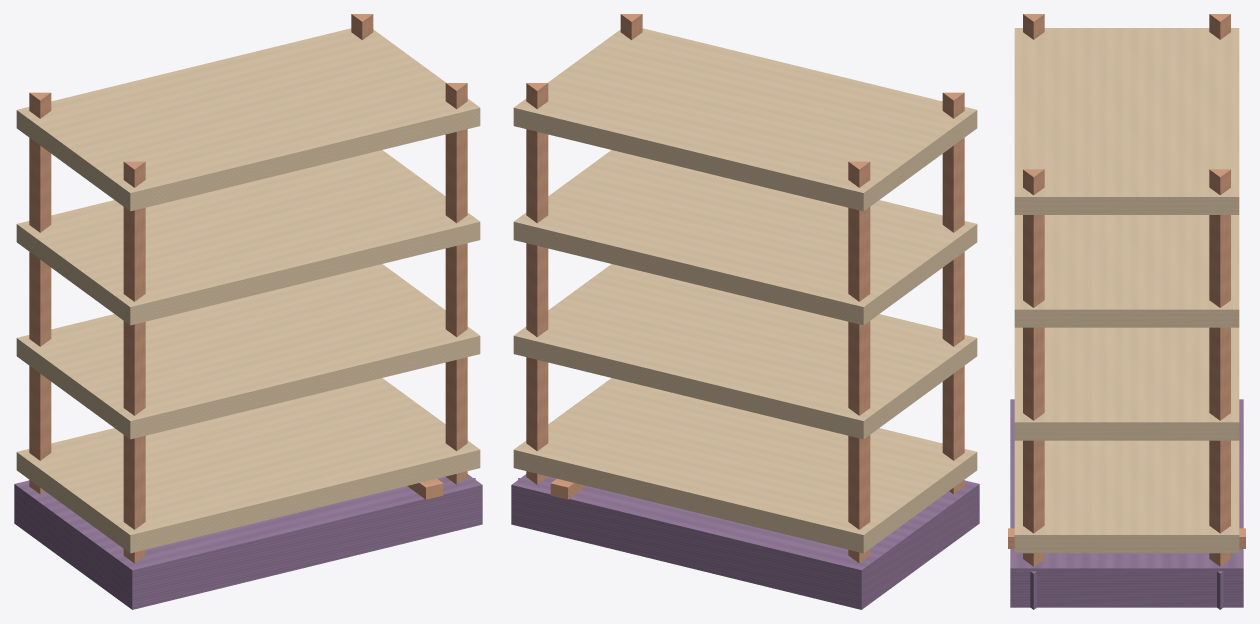
The model's file is atlas100-s082-a06.lod2.glb.
The picture shows the model from 3 angles, left to right: view 1: azimuth 30°, elevation 25°; view 2: azimuth 150°, elevation 25°; view 3: azimuth 270°, elevation 25°; orthographic projection.
Parts seen in each view (by area): view 1: atlas100-s082-a06:part-014, atlas100-s082-a06:part-011, atlas100-s082-a06:part-013, atlas100-s082-a06:part-012, atlas100-s082-a06:part-000, atlas100-s082-a06:part-005, atlas100-s082-a06:part-009, atlas100-s082-a06:part-003; view 2: atlas100-s082-a06:part-014, atlas100-s082-a06:part-011, atlas100-s082-a06:part-013, atlas100-s082-a06:part-012, atlas100-s082-a06:part-000, atlas100-s082-a06:part-003, atlas100-s082-a06:part-007, atlas100-s082-a06:part-005; view 3: atlas100-s082-a06:part-014, atlas100-s082-a06:part-011, atlas100-s082-a06:part-012, atlas100-s082-a06:part-013, atlas100-s082-a06:part-000, atlas100-s082-a06:part-007, atlas100-s082-a06:part-009, atlas100-s082-a06:part-003, atlas100-s082-a06:part-005.
Part boxes in pixels (x1,y1,x2,y2): atlas100-s082-a06:part-014: (16, 28, 480, 211); atlas100-s082-a06:part-011: (16, 378, 480, 553); atlas100-s082-a06:part-013: (16, 150, 480, 325); atlas100-s082-a06:part-012: (16, 264, 480, 439); atlas100-s082-a06:part-000: (14, 474, 482, 609); atlas100-s082-a06:part-005: (123, 161, 145, 563); atlas100-s082-a06:part-009: (445, 83, 467, 484); atlas100-s082-a06:part-003: (29, 92, 51, 494); atlas100-s082-a06:part-014: (513, 28, 977, 211); atlas100-s082-a06:part-011: (513, 378, 977, 553); atlas100-s082-a06:part-013: (513, 150, 977, 325); atlas100-s082-a06:part-012: (513, 264, 977, 439); atlas100-s082-a06:part-000: (511, 474, 979, 609); atlas100-s082-a06:part-003: (848, 161, 870, 563); atlas100-s082-a06:part-007: (526, 83, 548, 484); atlas100-s082-a06:part-005: (942, 92, 964, 494); atlas100-s082-a06:part-014: (1014, 28, 1239, 214); atlas100-s082-a06:part-011: (1014, 440, 1239, 553); atlas100-s082-a06:part-012: (1014, 327, 1239, 440); atlas100-s082-a06:part-013: (1014, 215, 1239, 327); atlas100-s082-a06:part-000: (1010, 399, 1243, 607); atlas100-s082-a06:part-007: (1209, 169, 1230, 566); atlas100-s082-a06:part-009: (1023, 169, 1044, 566); atlas100-s082-a06:part-003: (1209, 14, 1230, 39); atlas100-s082-a06:part-005: (1023, 14, 1044, 39).
Bounding box in the file's own units: 2.43 × 2.84 × 1.43.
Materials: 3 (3 with a texture image).
